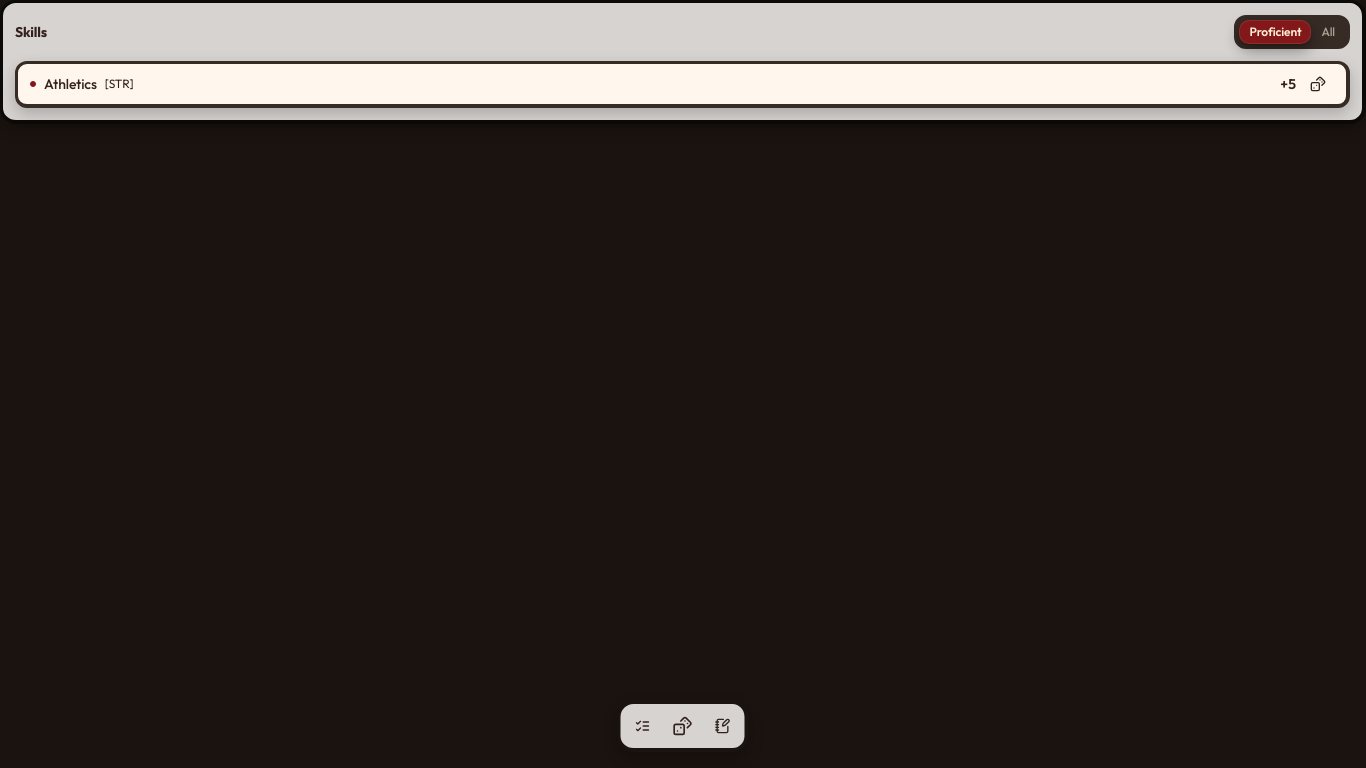
Test case: SkillsCard roll integration › opens contextual d20 roll from a skill row
Click the button named "Roll Athletics". click: (1318, 84)
box: [1302,68,1334,100]
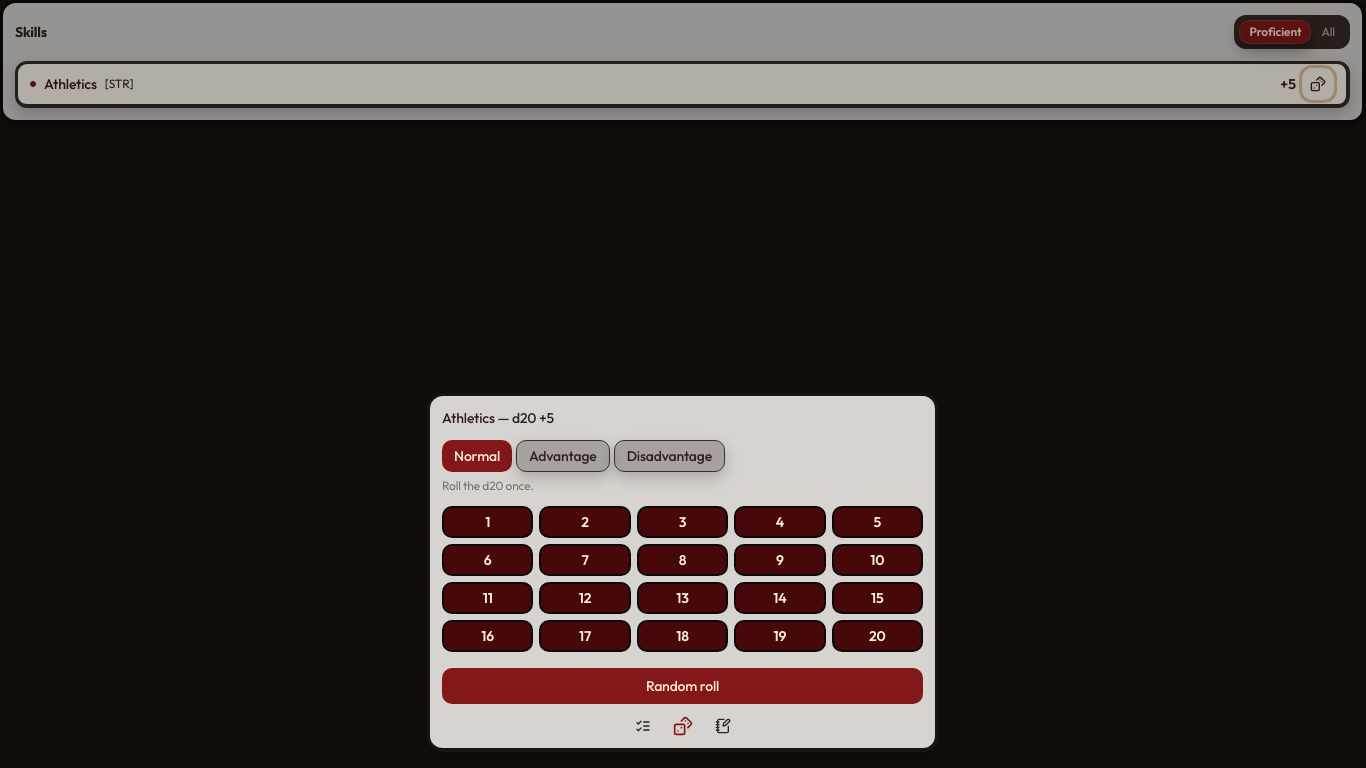
expect the text "Athletics — d20 +5" is shown: met, box [442,409,554,427]
expect the button "14" is shown: met, box [734,582,826,614]
